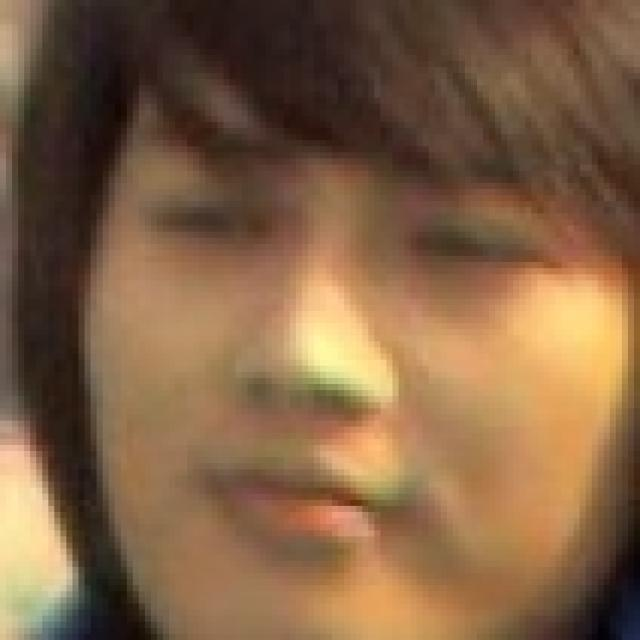Eyeclosed: (414, 213, 540, 276), (161, 203, 263, 249)
